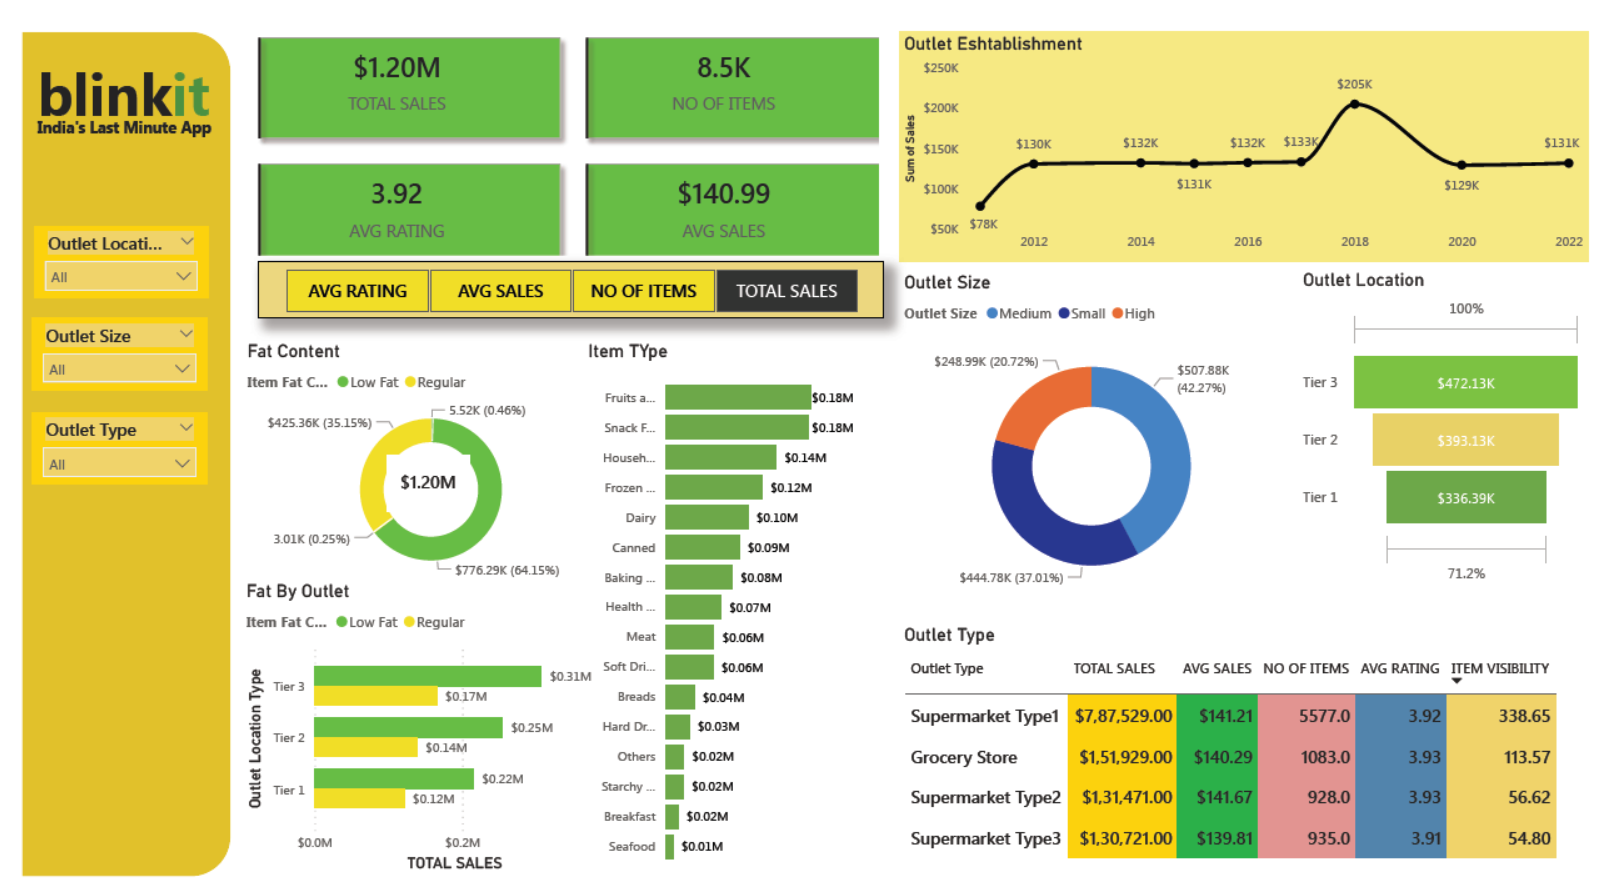

Layout of this report page (visuals, bound fields, positions):
{"tool":"powerbi","page":{"name":"blinkit Sales","canvas":[1481,800],"ordinal":0},"visuals":[{"type":"shape","box":[20.1,12.1,194.3,787.9],"z":0},{"type":"textbox","box":[29.5,26.8,194.3,84.4],"z":1000},{"type":"textbox","box":[29.5,85.8,194.3,49.6],"z":2000},{"type":"lineChart","title":"Outlet Eshtablishment","fields":{"Category":["BlinkIT Grocery Data.Outlet Establishment Year"],"Y":["Sum(BlinkIT Grocery Data.Sales)"]},"box":[837.5,12.1,643.2,214.4],"z":3000},{"type":"donutChart","title":"Outlet Size","fields":{"Category":["BlinkIT Grocery Data.Outlet Size"],"Series":["BlinkIT Grocery Data.Outlet Size"],"Y":["BlinkIT Grocery Data.TOTAL SALES"]},"box":[837.5,234.5,359.1,314.9],"z":4000},{"type":"funnel","title":"Outlet Location","fields":{"Category":["BlinkIT Grocery Data.Outlet Location Type"],"Y":["BlinkIT Grocery Data.TOTAL SALES"]},"box":[1210.1,233.2,270.7,300.2],"z":5000},{"type":"cardVisual","fields":{"Data":["BlinkIT Grocery Data.TOTAL SALES","BlinkIT Grocery Data.NO OF ITEMS","BlinkIT Grocery Data.AVG RATING","BlinkIT Grocery Data.AVG SALES"]},"box":[223.8,0,600.3,226.5],"z":6000},{"type":"slicer","fields":{"Values":["Parameter.Parameter"]},"box":[239.9,226.5,584.3,52.3],"z":8000},{"type":"donutChart","title":"Fat Content","fields":{"Y":["CountNonNull(BlinkIT Grocery Data.Item Fat Content)","BlinkIT Grocery Data.TOTAL SALES"],"Category":["BlinkIT Grocery Data.Item Fat Content"]},"box":[225.1,298.8,352.4,230.5],"z":9000},{"type":"clusteredBarChart","title":"Fat By Outlet","fields":{"Y":["BlinkIT Grocery Data.TOTAL SALES"],"Series":["BlinkIT Grocery Data.Item Fat Content"],"Category":["BlinkIT Grocery Data.Outlet Location Type"]},"box":[223.8,522.6,352.4,277.4],"z":10000},{"type":"clusteredBarChart","title":"Item TYpe","fields":{"Category":["BlinkIT Grocery Data.Item Type"],"Y":["BlinkIT Grocery Data.TOTAL SALES"]},"box":[542.7,298.8,258.6,501.2],"z":11000},{"type":"card","fields":{"Values":["BlinkIT Grocery Data.TOTAL SALES"]},"box":[360.5,407.4,76.4,52.3],"z":12000},{"type":"tableEx","title":"Outlet Type","fields":{"Values":["BlinkIT Grocery Data.Outlet Type","BlinkIT Grocery Data.TOTAL SALES","BlinkIT Grocery Data.AVG SALES","BlinkIT Grocery Data.NO OF ITEMS","BlinkIT Grocery Data.AVG RATING","Sum(BlinkIT Grocery Data.Item Visibility)"]},"box":[837.5,564.2,643.2,226.5],"z":12001},{"type":"slicer","fields":{"Values":["BlinkIT Grocery Data.Outlet Type"]},"box":[29.5,367.2,162.1,67],"z":12002},{"type":"slicer","fields":{"Values":["BlinkIT Grocery Data.Outlet Size"]},"box":[29.5,278.7,162.1,67],"z":12003},{"type":"slicer","fields":{"Values":["BlinkIT Grocery Data.Outlet Location Type"]},"box":[30.8,193,162.1,67],"z":12004}]}

Visuals, with their boxes on the page's 1481x800 design canvas (x1, y1, x2, y2). These are canvas units, not pixel positions in the 1598x894 screenshot, which may show the page scaled, cropped or inside an application window:
shape: BBox(20, 12, 214, 800)
textbox: BBox(30, 27, 224, 111)
textbox: BBox(30, 86, 224, 135)
"Outlet Eshtablishment" lineChart: BBox(838, 12, 1481, 226)
"Outlet Size" donutChart: BBox(838, 234, 1197, 549)
"Outlet Location" funnel: BBox(1210, 233, 1481, 533)
cardVisual - BlinkIT Grocery Data.TOTAL SALES x BlinkIT Grocery Data.NO OF ITEMS: BBox(224, 0, 824, 226)
slicer - Parameter.Parameter: BBox(240, 226, 824, 279)
"Fat Content" donutChart: BBox(225, 299, 578, 529)
"Fat By Outlet" clusteredBarChart: BBox(224, 523, 576, 800)
"Item TYpe" clusteredBarChart: BBox(543, 299, 801, 800)
card - BlinkIT Grocery Data.TOTAL SALES: BBox(360, 407, 437, 460)
"Outlet Type" tableEx: BBox(838, 564, 1481, 791)
slicer - BlinkIT Grocery Data.Outlet Type: BBox(30, 367, 192, 434)
slicer - BlinkIT Grocery Data.Outlet Size: BBox(30, 279, 192, 346)
slicer - BlinkIT Grocery Data.Outlet Location Type: BBox(31, 193, 193, 260)
